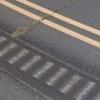Crosswalk: (8, 31, 99, 95)
